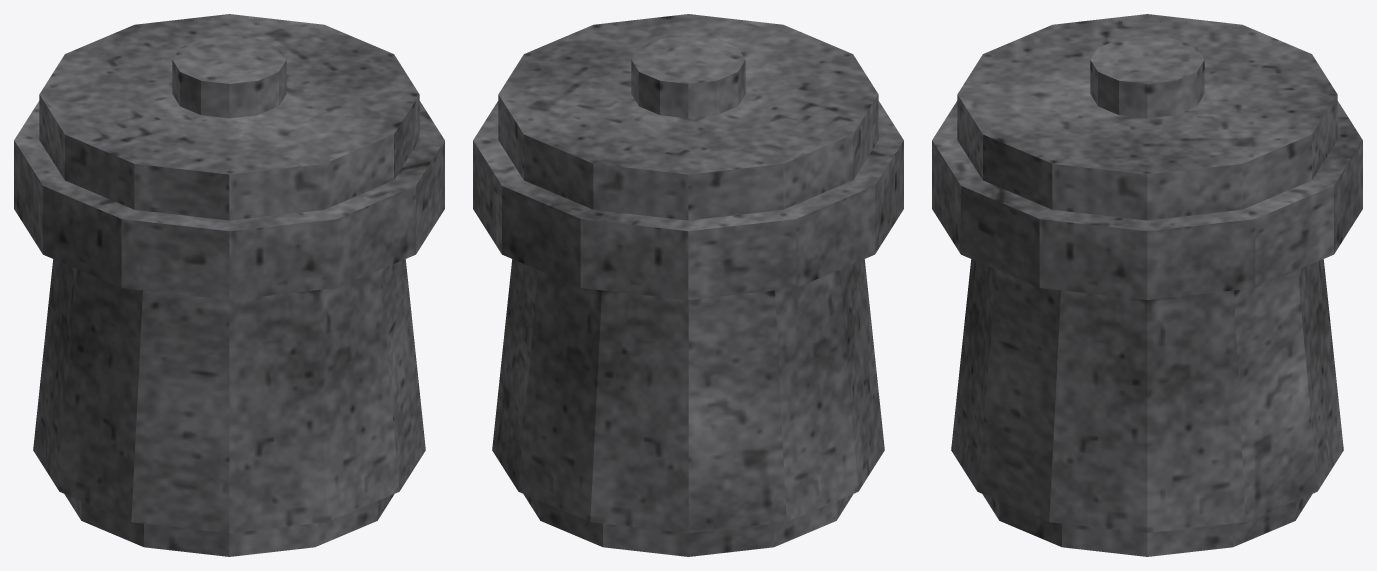
File: pickle_crock.fbx
The picture shows the model from 3 angles, left to right: view 1: azimuth 30°, elevation 25°; view 2: azimuth 150°, elevation 25°; view 3: azimuth 270°, elevation 25°; orthographic projection.
Visible parts, largest first — view 1: pickle_crock; view 2: pickle_crock; view 3: pickle_crock.
Boxes of the visible parts, x1,y1,x2,y2 form: pickle_crock: (14, 14, 444, 556); pickle_crock: (473, 14, 903, 556); pickle_crock: (932, 14, 1362, 556).
Size of the model in its own units: 34 by 37 by 34.
